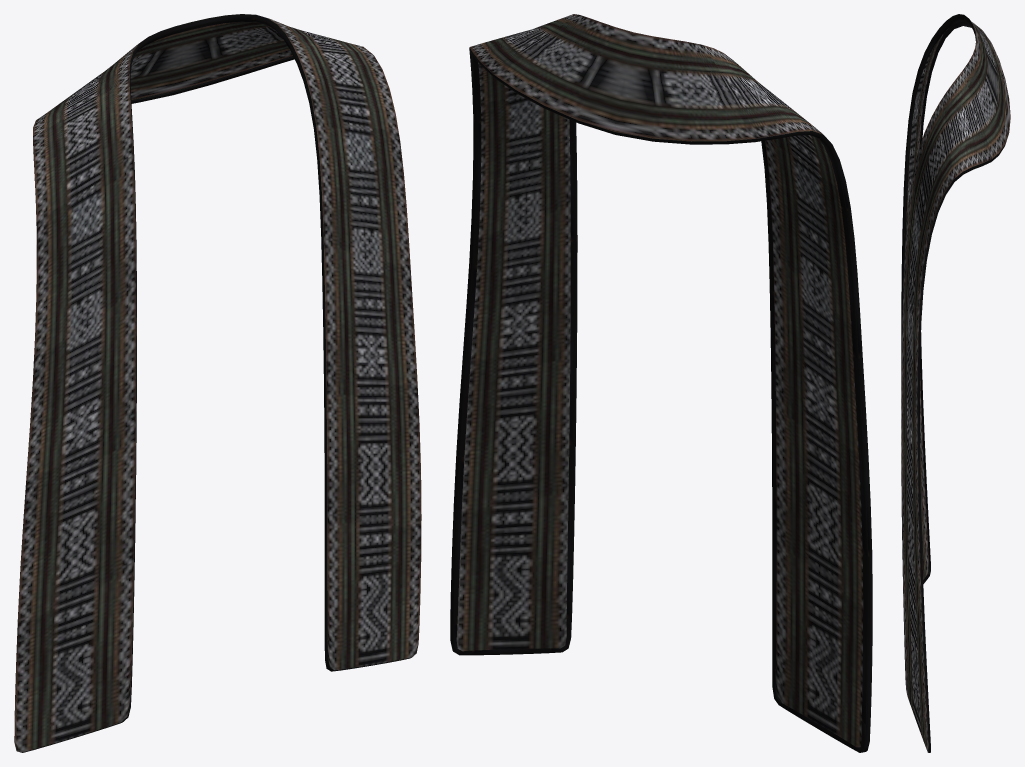
File: sash_striped_edge.glb
3 views of the same model, side by side, from view 1: azimuth 30°, elevation 25°; view 2: azimuth 150°, elevation 25°; view 3: azimuth 270°, elevation 25° (orthographic). The views are drawn at different scales.
Visible parts, largest first — view 1: mid_section, stripe_2, stripe_1; view 2: mid_section, stripe_2, stripe_1; view 3: mid_section, stripe_2, stripe_1.
Part boxes in pixels (x1,y1,x2,y2): mid_section: [14, 14, 421, 752]; stripe_2: [105, 14, 346, 726]; stripe_1: [14, 44, 421, 752]; mid_section: [450, 14, 872, 752]; stripe_2: [546, 15, 795, 710]; stripe_1: [451, 62, 872, 747]; mid_section: [901, 19, 1008, 752]; stripe_2: [901, 14, 976, 703]; stripe_1: [915, 28, 1010, 752].
Bounding box in the file's own units: 1.4 × 2.2 × 0.3488.
Materials: 1 (1 with a texture image).
